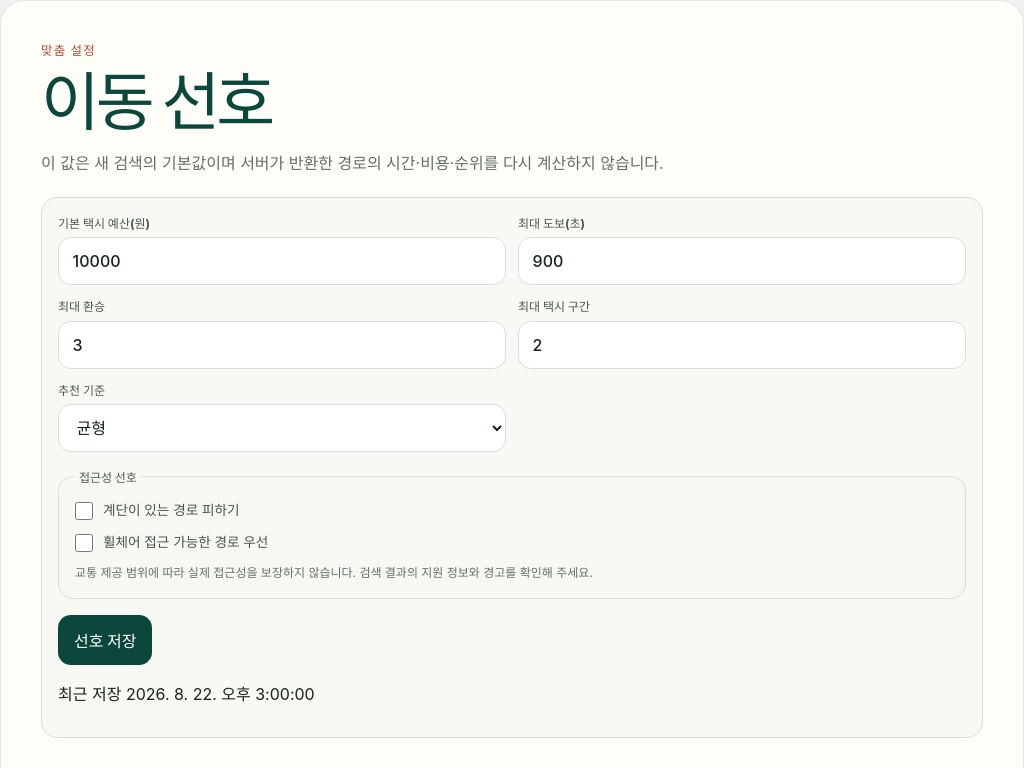
Test: PreferencesPage contract-backed accessibility › sends both typed accessibility flags with the server ETag
This screenshot has width=1024, height=768.
Click the checkbox labelled "계단이 있는 경로 피하기": (84, 511) [75,502,93,520]
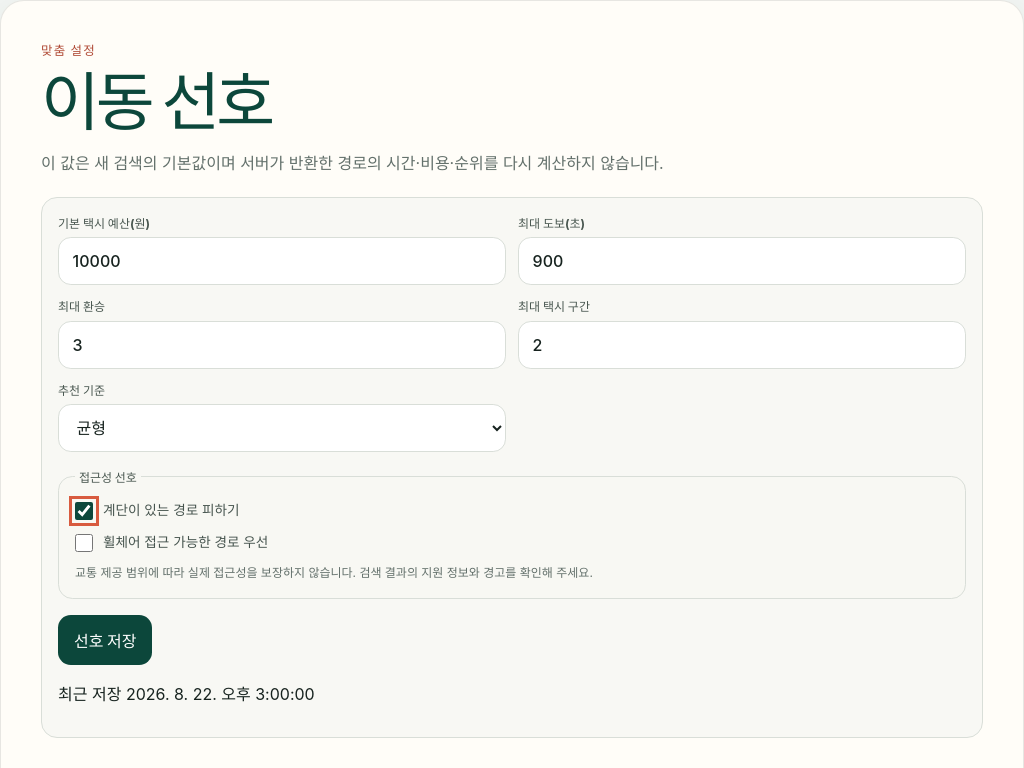
Click the checkbox labelled "휠체어 접근 가능한 경로 우선": (84, 543) [75,534,93,552]
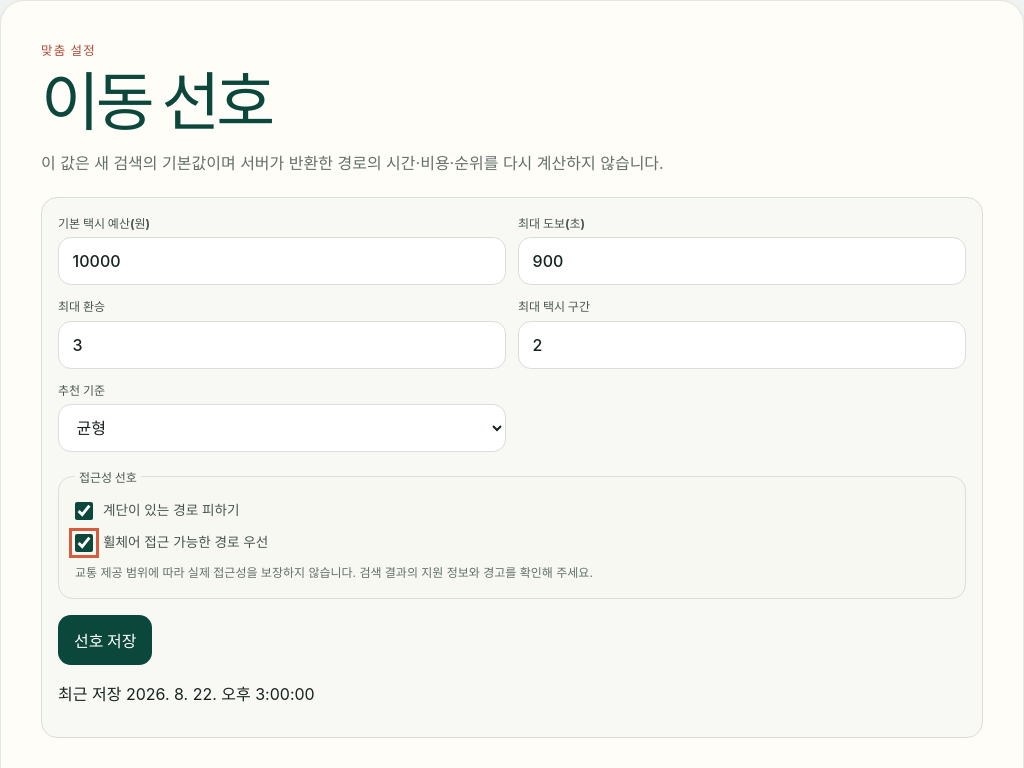
Click the button "선호 저장": (105, 640) [58,616,152,665]
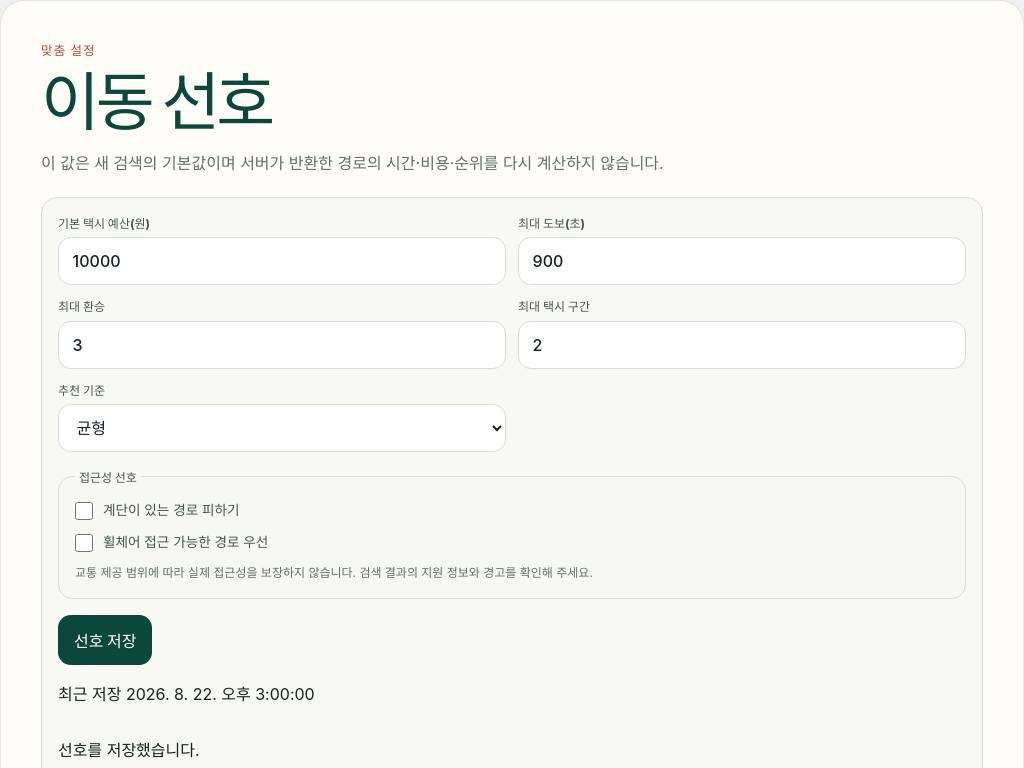
Now the text "선호를 저장했습니다." is shown, box [58,740,200,760]
